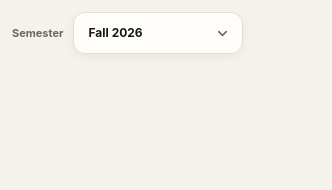
it: SemesterPicker › closes on Escape and returns focus to the trigger
Click the button with aria-label "Semester" at (158, 33), box [74,12,244,54]
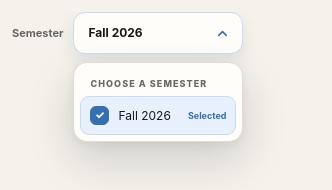
Press Escape
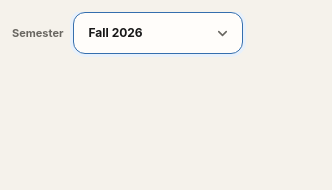
expect the button with aria-label "Semester" is collapsed: met, box [74,12,244,54]
